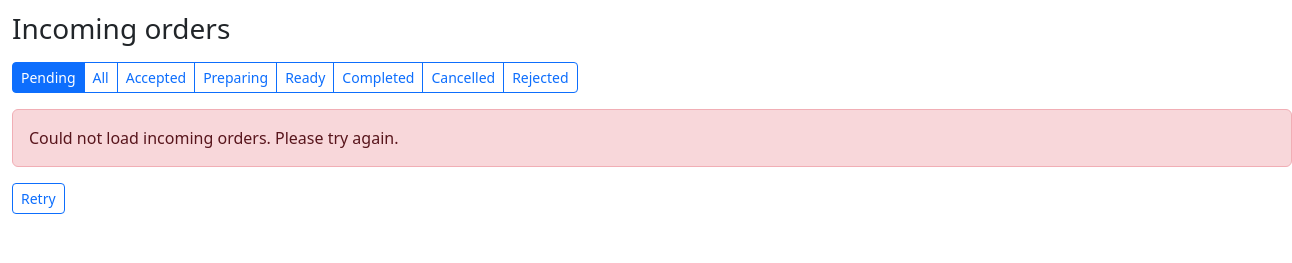
Test: OperatorOrders screen (AC-32, AC-33, AC-34, AC-35, AC-41) › shows an error alert and retries when Retry is clicked
Check: the message "Could not load incoming orders. Please try again." is shown, box x1=12 y1=109 x2=1291 y2=167
Click the button "Retry" at (38, 198), box x1=12 y1=183 x2=65 y2=214
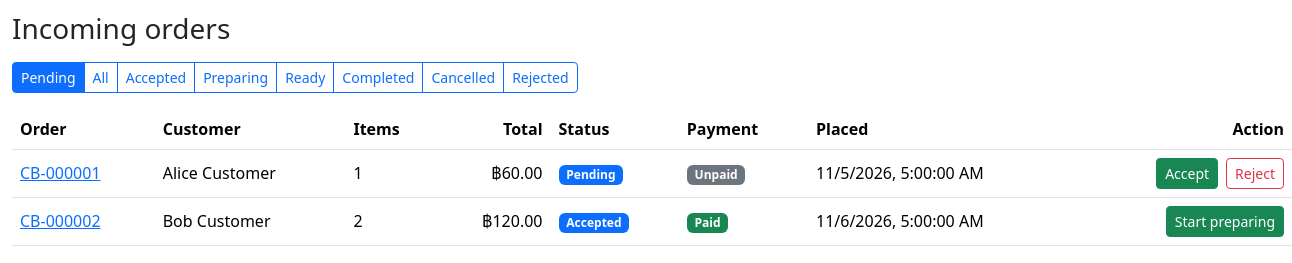
Check: the link "CB-000001" is shown, box x1=20 y1=162 x2=101 y2=184
